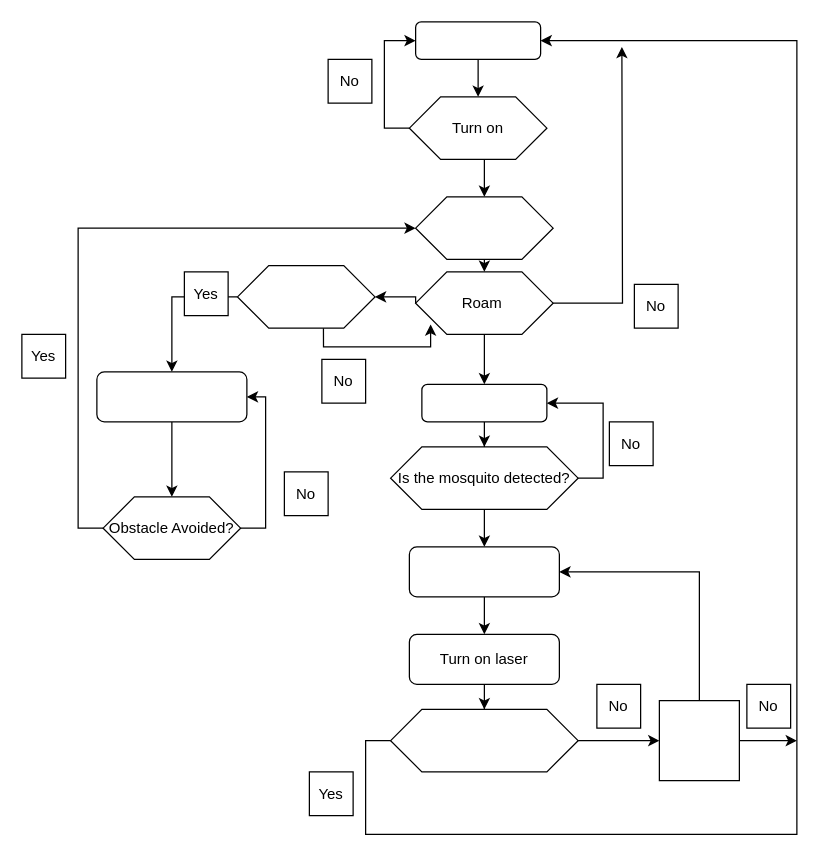
This 829x866 diagram has some shape labels left out. The box of each missing label's shape, as (x1, y1, x2, y2) in pixels:
CalculateX,Y,Z coordinates: (408, 546, 559, 597)
Count 3 times: (658, 699, 739, 781)
Feedback: (414, 196, 553, 259)
Mosquito tracking: (421, 383, 547, 422)
Obstacle: (236, 264, 375, 328)
Start: (414, 21, 541, 59)
Turn appropriate direction: (96, 371, 247, 422)
Was the mosquito annhilated: (389, 708, 578, 772)
